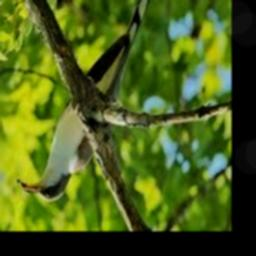Cuckoo: (21, 0, 156, 202)
